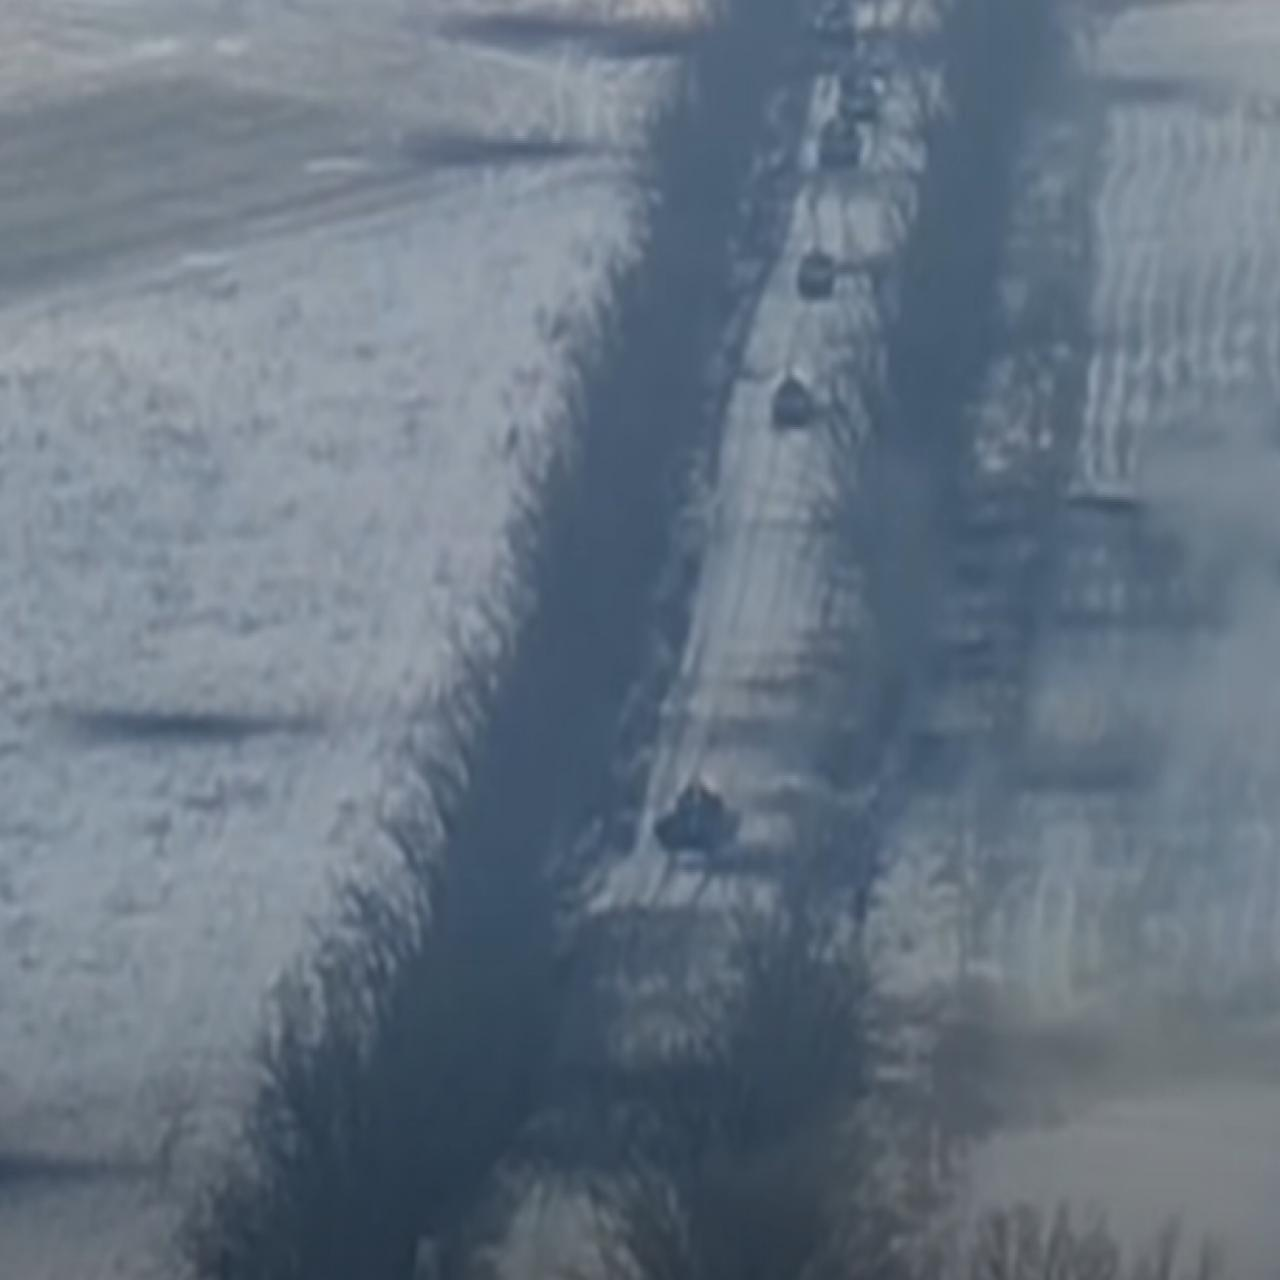MIL_Veh: (642, 774, 735, 853), (754, 368, 815, 424), (825, 61, 883, 117), (782, 251, 842, 305), (806, 111, 860, 169)
